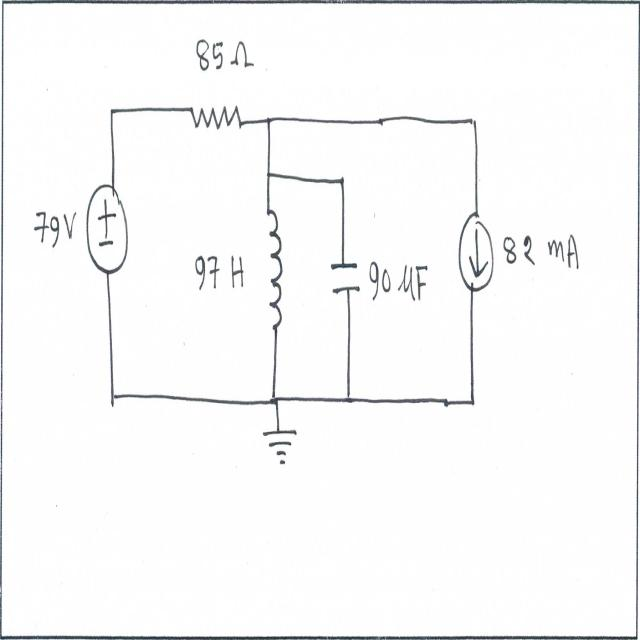capacitor: (330, 253, 363, 301)
current_source: (454, 204, 495, 298)
ground: (257, 419, 303, 473)
inductor: (263, 204, 291, 340)
resistor: (185, 102, 248, 140)
voltage_source: (84, 180, 132, 283)
